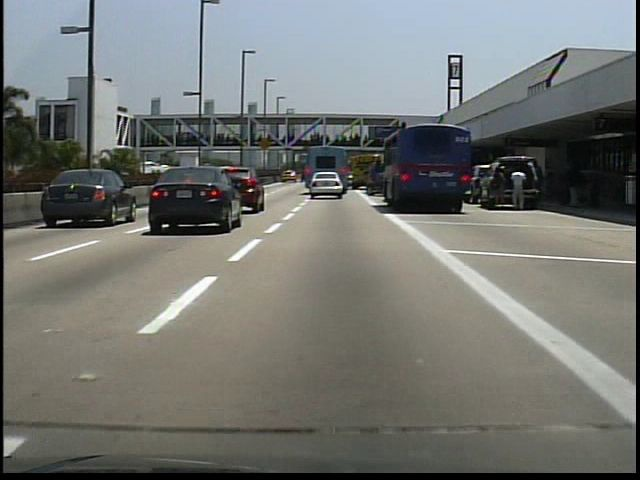person: (488, 164, 511, 217), (509, 162, 529, 214), (564, 166, 581, 209)
